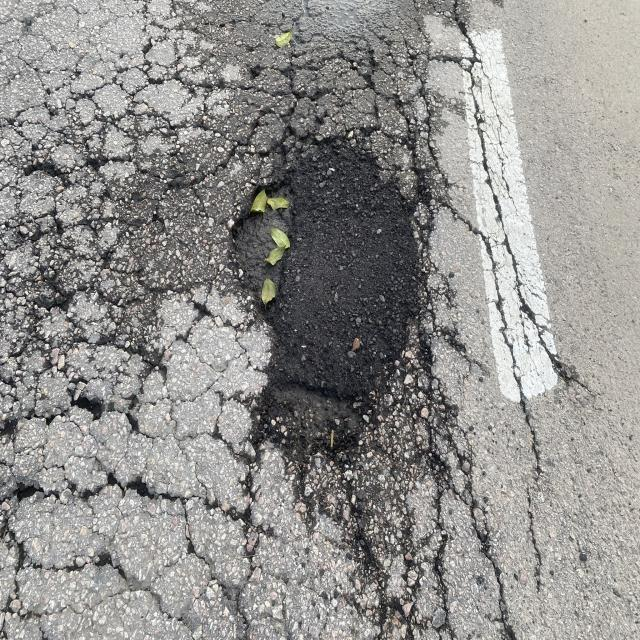pothole: (208, 81, 432, 551)
